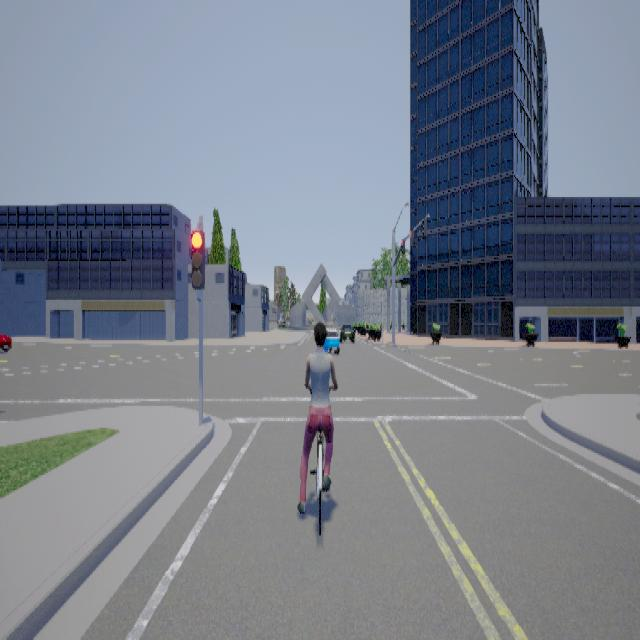bike: (298, 318, 340, 534)
red_light: (192, 219, 206, 300), (410, 229, 415, 246), (402, 238, 406, 252)
traffic_light: (422, 217, 427, 236)
vehicle: (324, 322, 356, 354)
